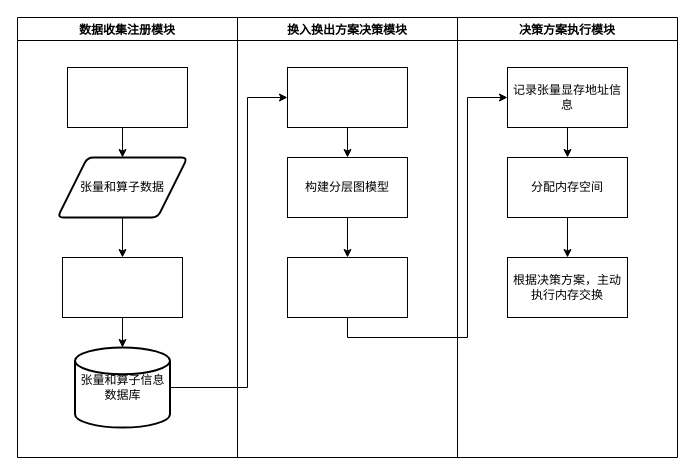
Image size: 695x475. Some labels were removed from this diagram. The shapes that lost their labels are listed below. From the top down, each one's centre as x and y in pixels, then its label:
the point at 127,97: 深度学习框架
the point at 347,97: 离线分析张量和算子信息
the point at 122,287: 初始化并注册数据
the point at 347,287: 生成换入换出决策方案
